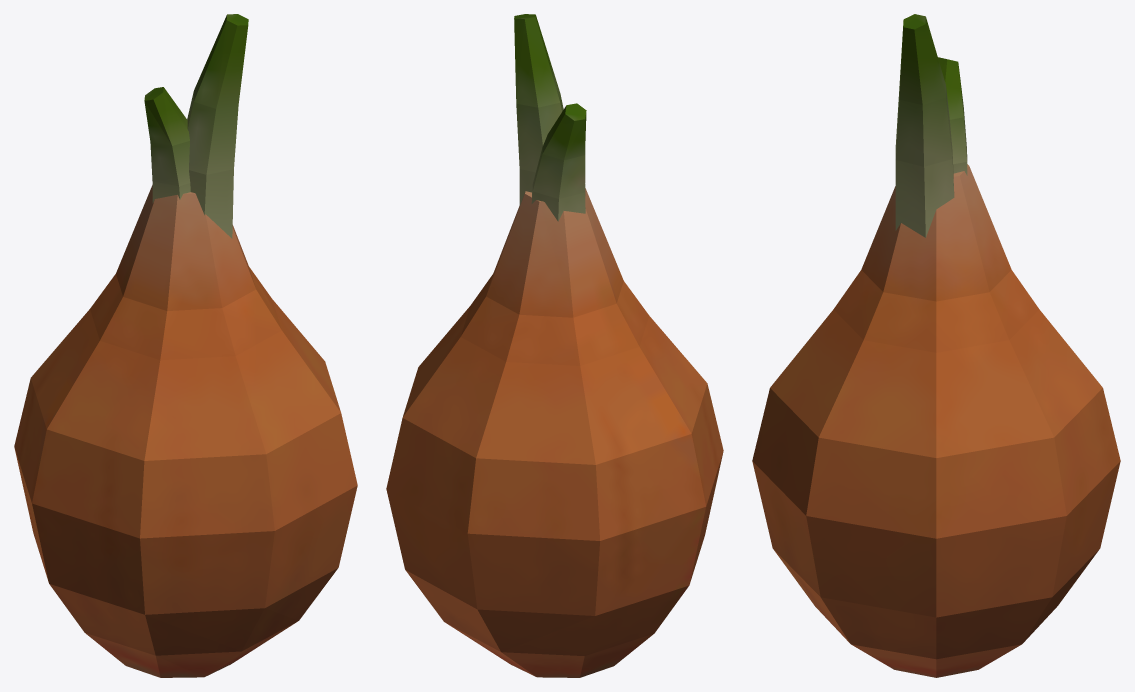
Rendered from OnionSeed_01.obj.
3 views of the same model, side by side, from view 1: azimuth 30°, elevation 25°; view 2: azimuth 150°, elevation 25°; view 3: azimuth 270°, elevation 25° (orthographic). The views are drawn at different scales.
Bounding box in the file's own units: 0.0818 × 0.1616 × 0.0818.
Materials: 1 (1 with a texture image).
